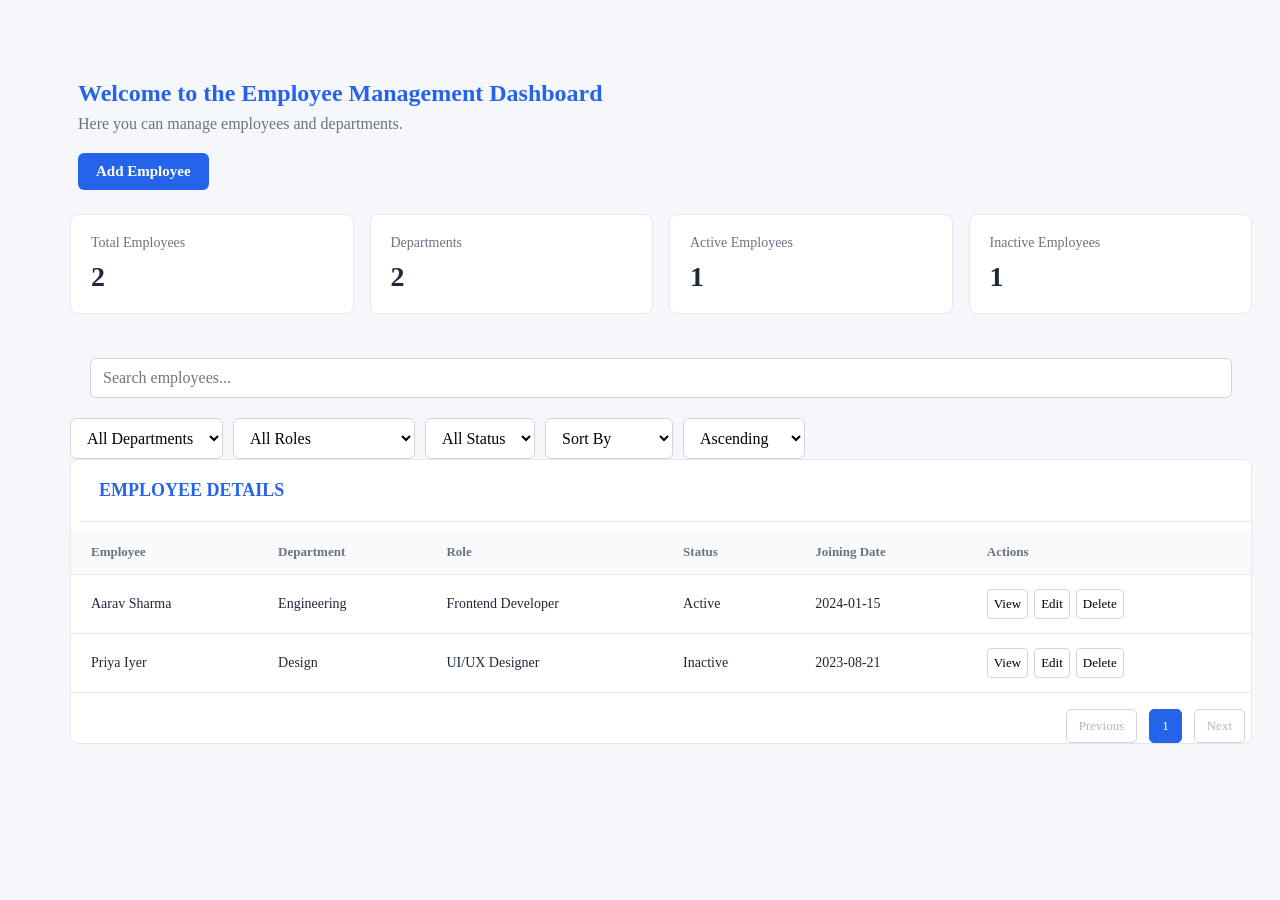
Test: Filter › should filter employees by role
Select "Frontend Developer" in the 2nd dropdown showing "All Roles" at (324,438), box 233,418 -> 415,459
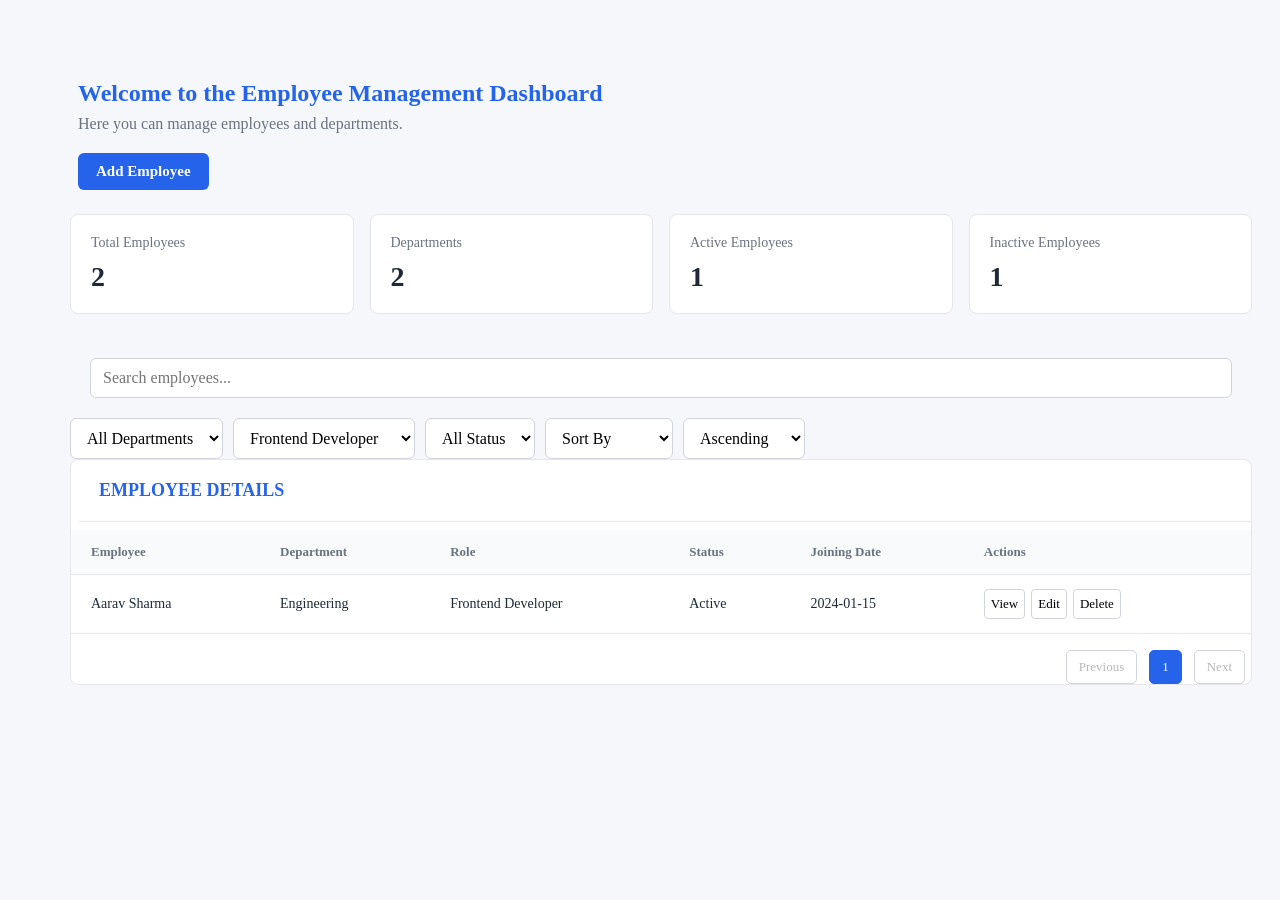
Expected: the text "Aarav Sharma" is shown, 71,574 -> 260,634
Expected: the text "Priya Iyer" is gone
